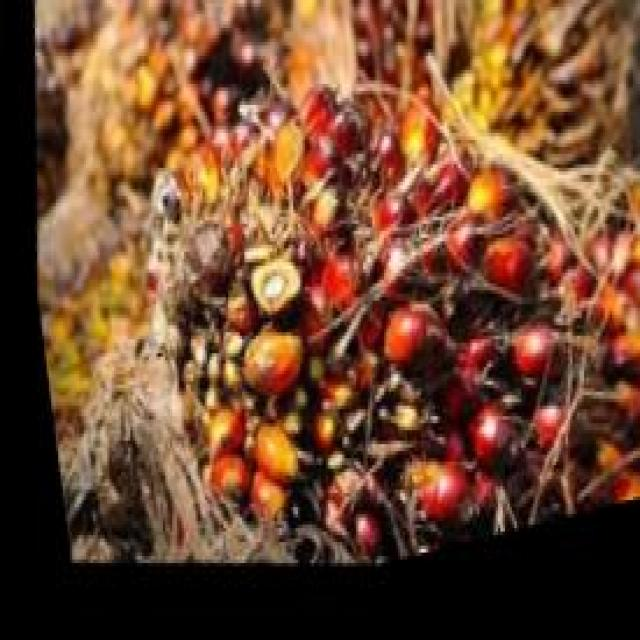Ripefruit: (107, 0, 640, 619)
